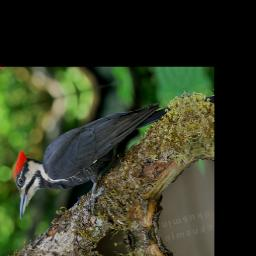Woodpecker: (0, 91, 191, 232)
